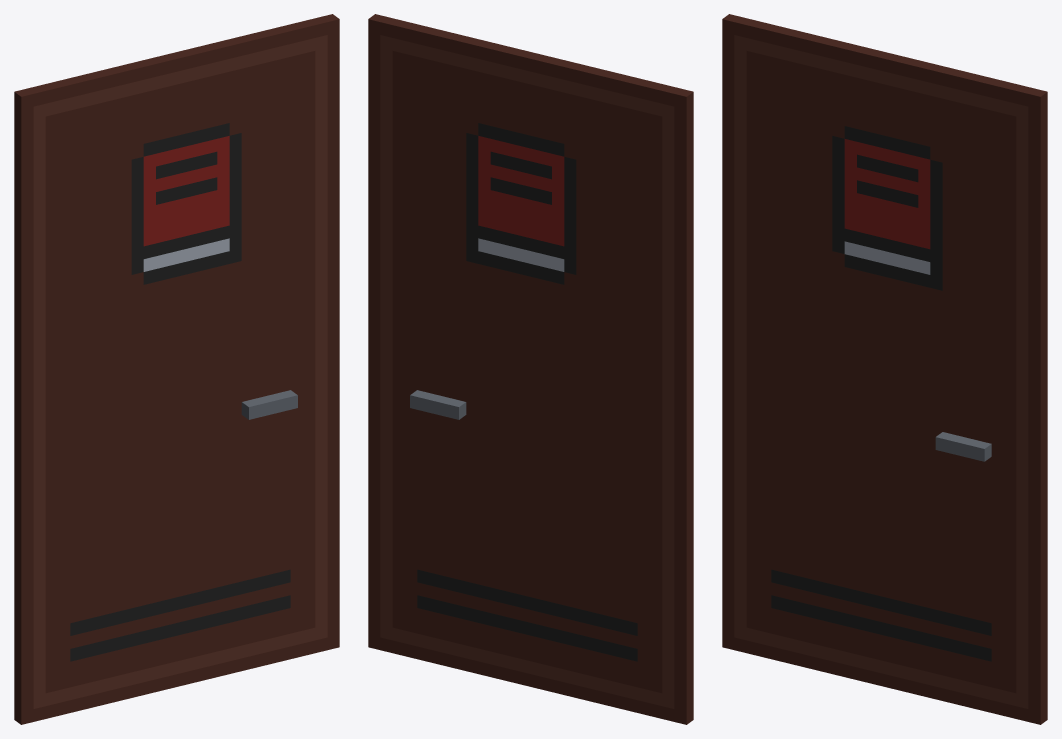
Rendered from library-door.obj.
3 views of the same model, side by side, from view 1: azimuth 30°, elevation 25°; view 2: azimuth 150°, elevation 25°; view 3: azimuth 330°, elevation 25° (orthographic).
Size of the model in its own units: 2.6 by 4.9 by 0.3.
Materials: 1 (1 with a texture image).
